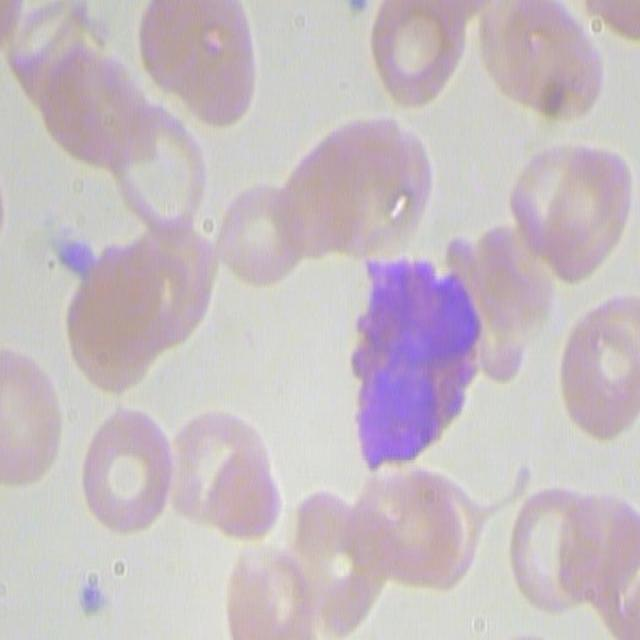RBC: (286, 106, 438, 260), (70, 227, 210, 390), (3, 0, 128, 169), (160, 404, 290, 558), (125, 2, 264, 142), (506, 136, 629, 288), (356, 460, 489, 598), (480, 0, 608, 121), (114, 104, 220, 245), (78, 400, 178, 540), (502, 479, 601, 618), (289, 492, 384, 632), (558, 292, 640, 438), (368, 0, 470, 109), (213, 178, 306, 290), (218, 541, 320, 638), (0, 335, 60, 493)
WBC: (347, 263, 487, 481)
platelets: (48, 222, 99, 287), (78, 577, 110, 619)
